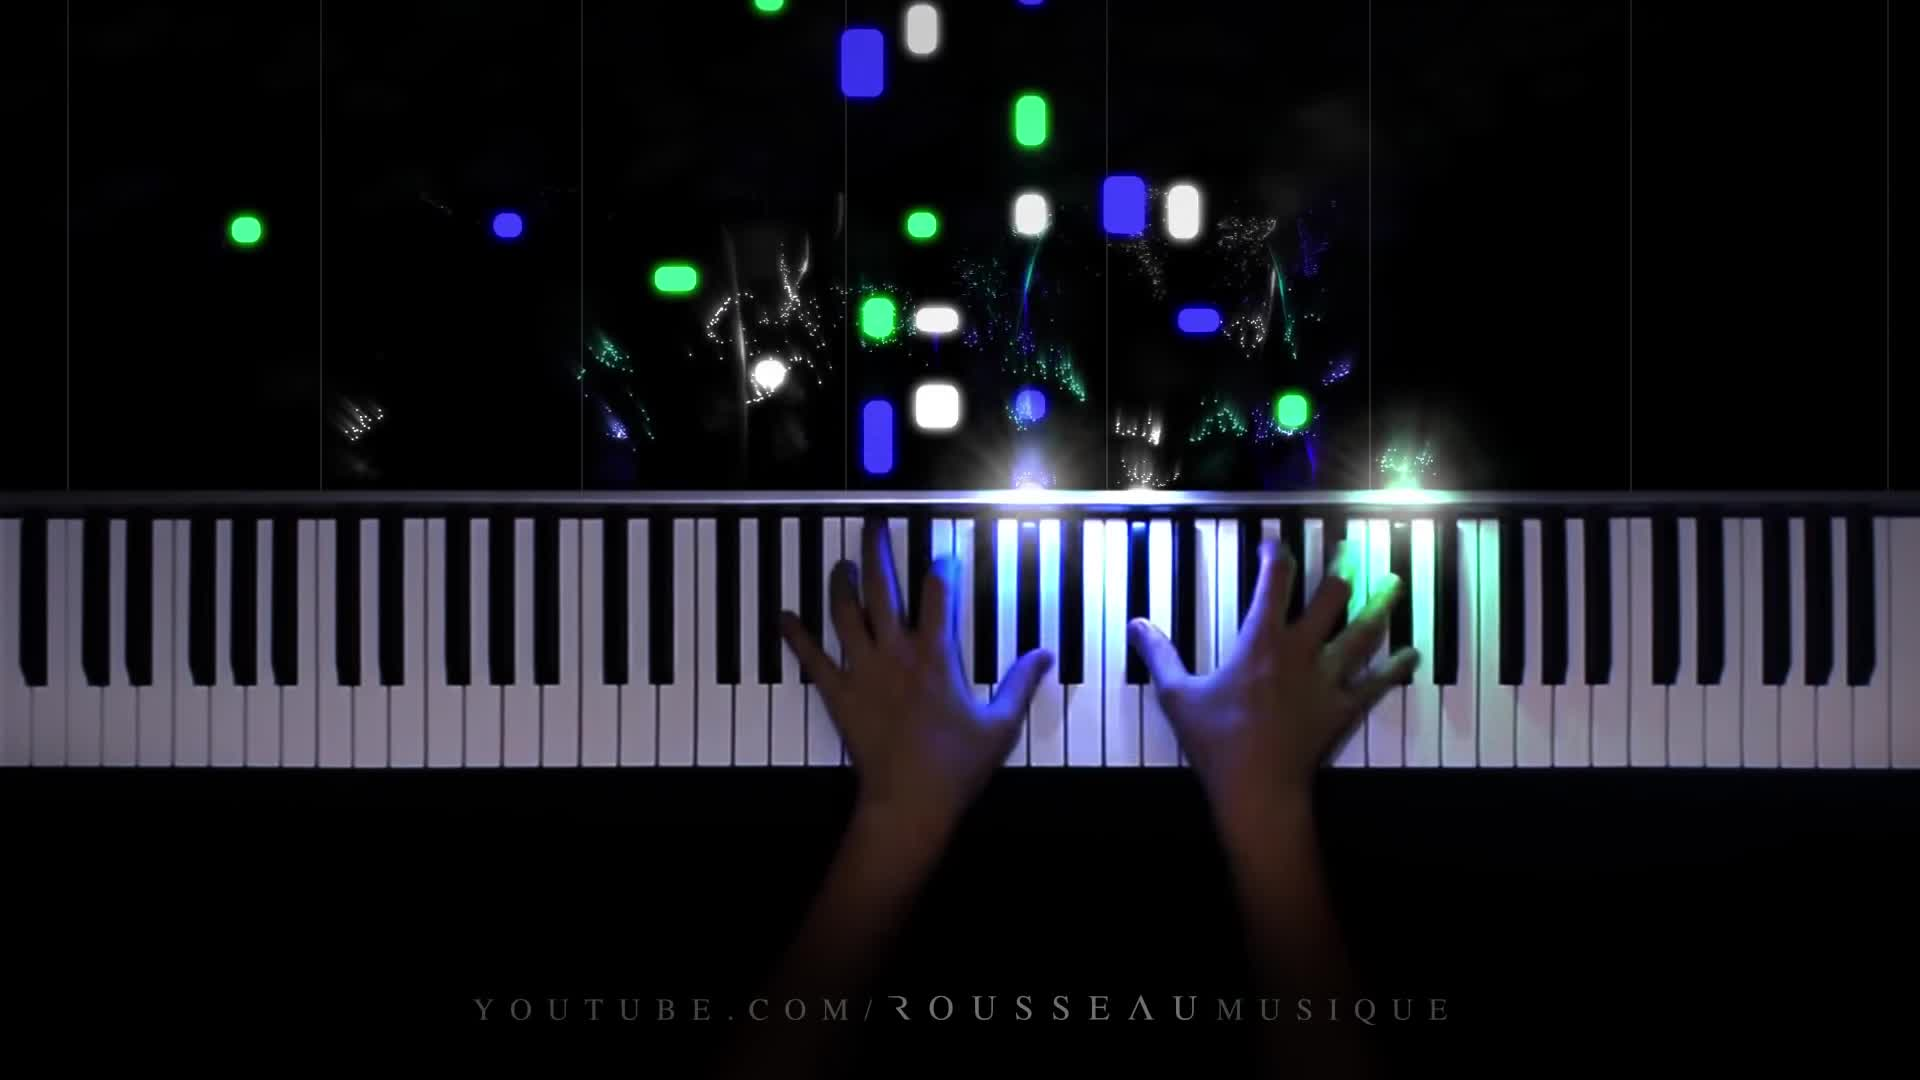left: (775, 516, 1052, 803)
right: (1129, 531, 1419, 790)
